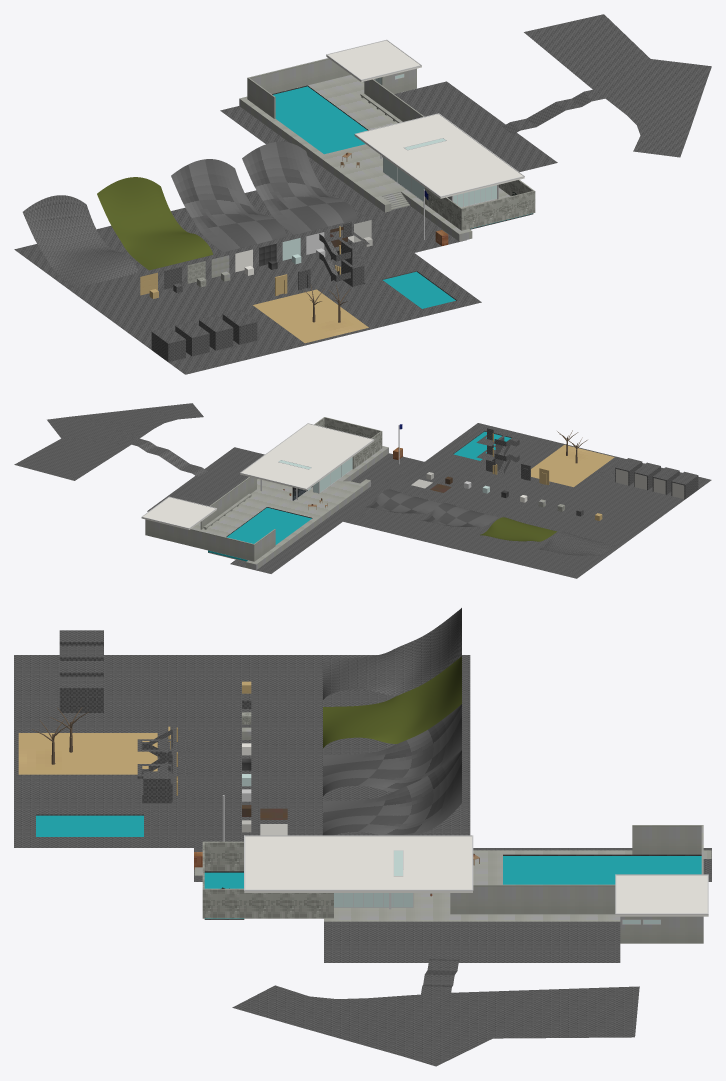
The model's file is test-environment.glb.
3 renders of one model, top to bottom at view 1: azimuth 30°, elevation 25°; view 2: azimuth 150°, elevation 25°; view 3: azimuth 270°, elevation 25°, orthographic. The views are drawn at different scales.
Visible parts, largest first — view 1: model, Pavillion-Environment, 3d_Travertin, 3d_Stucco, scatter-grass, 3d_Water, Layer 01, 3d_marble_green, 3d_Glass, 3d_polished_metal; view 2: model, Pavillion-Environment, 3d_Travertin, 3d_Stucco, scatter-grass, Layer 01, 3d_Water, 3d_marble_green, 3d_polished_metal, 3d_Glass; view 3: model (×2), Pavillion-Environment, 3d_Stucco, 3d_Travertin, scatter-grass, 3d_Water, 3d_marble_green, Layer 01, 3d_polished_metal, 3d_Glass.
Part boxes in pixels (x1,y1,x2,y2): model: [14, 141, 481, 374]; Pavillion-Environment: [220, 14, 711, 252]; 3d_Travertin: [239, 58, 510, 241]; 3d_Stucco: [326, 40, 524, 198]; scatter-grass: [97, 177, 368, 343]; 3d_Water: [273, 86, 531, 228]; Layer 01: [151, 310, 257, 362]; 3d_marble_green: [425, 179, 535, 230]; 3d_Glass: [375, 74, 496, 207]; 3d_polished_metal: [326, 39, 524, 207]; model: [343, 423, 711, 578]; Pavillion-Environment: [14, 403, 424, 573]; 3d_Travertin: [145, 446, 388, 570]; 3d_Stucco: [141, 424, 374, 529]; scatter-grass: [480, 445, 614, 541]; Layer 01: [615, 458, 698, 499]; 3d_Water: [208, 507, 311, 561]; 3d_marble_green: [314, 417, 382, 469]; 3d_polished_metal: [141, 423, 374, 528]; 3d_Glass: [279, 457, 352, 492]; model (×2): [14, 608, 470, 869]; Pavillion-Environment: [194, 848, 711, 1066]; 3d_Stucco: [244, 836, 708, 916]; 3d_Travertin: [194, 825, 711, 943]; scatter-grass: [18, 656, 461, 774]; 3d_Water: [204, 856, 701, 918]; 3d_marble_green: [202, 841, 333, 918]; Layer 01: [59, 630, 103, 712]; 3d_polished_metal: [244, 835, 708, 924]; 3d_Glass: [334, 850, 660, 923].
Size of what is drawn, in the model's own units: 115 by 9.7 by 76.51.
Materials: 45 (23 with a texture image).
